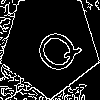Q: (25, 19, 85, 80)
